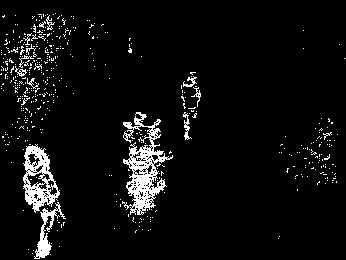person: (19, 143, 68, 258), (180, 70, 201, 140)
